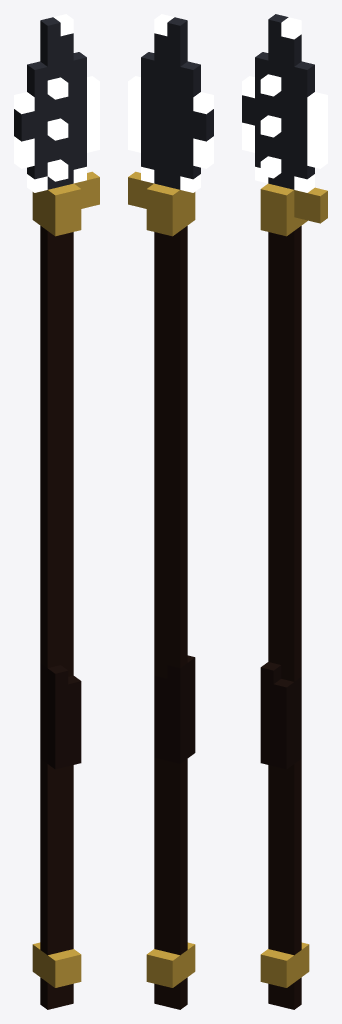
File: spear_legendary_lod1.glb
3 renders of one model, left to right at view 1: azimuth 30°, elevation 25°; view 2: azimuth 150°, elevation 25°; view 3: azimuth 330°, elevation 25°, orthographic.
Parts seen in each view (by area): view 1: spear_legendary_lod1; view 2: spear_legendary_lod1; view 3: spear_legendary_lod1.
Boxes of the visible parts, x1,y1,x2,y2 form: spear_legendary_lod1: (14,14,99,1009); spear_legendary_lod1: (128,14,213,1009); spear_legendary_lod1: (242,14,327,1009).
Size of the model in its own units: 0.18 by 2.16 by 0.09.
